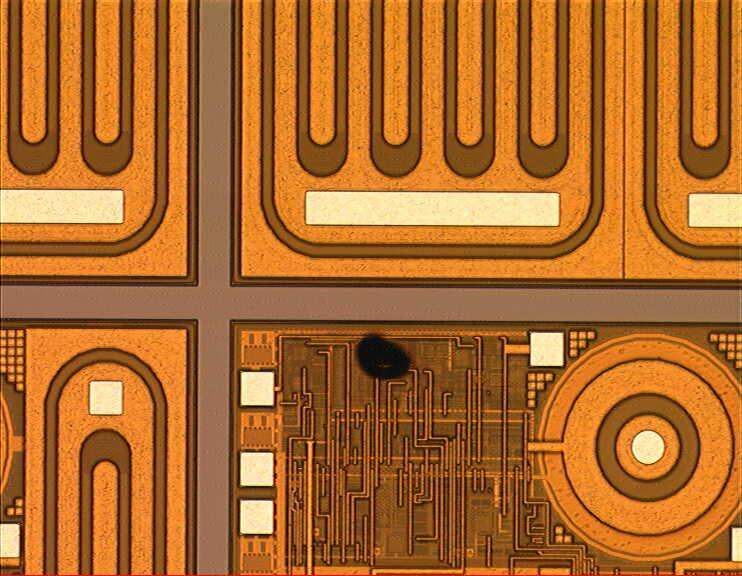PIQ PARTICLE: (354, 331, 417, 383)
